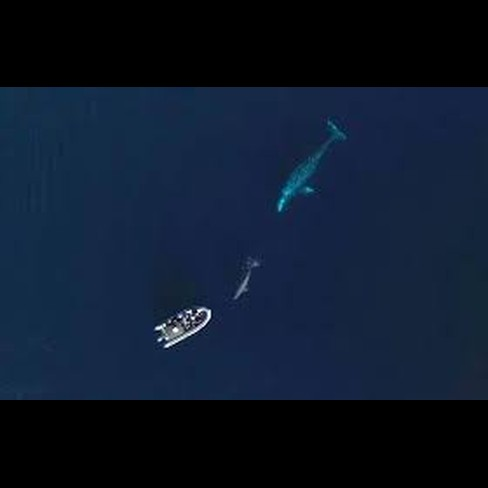bluewhale: (271, 116, 350, 217), (229, 252, 263, 302)
boat: (150, 301, 217, 351)
